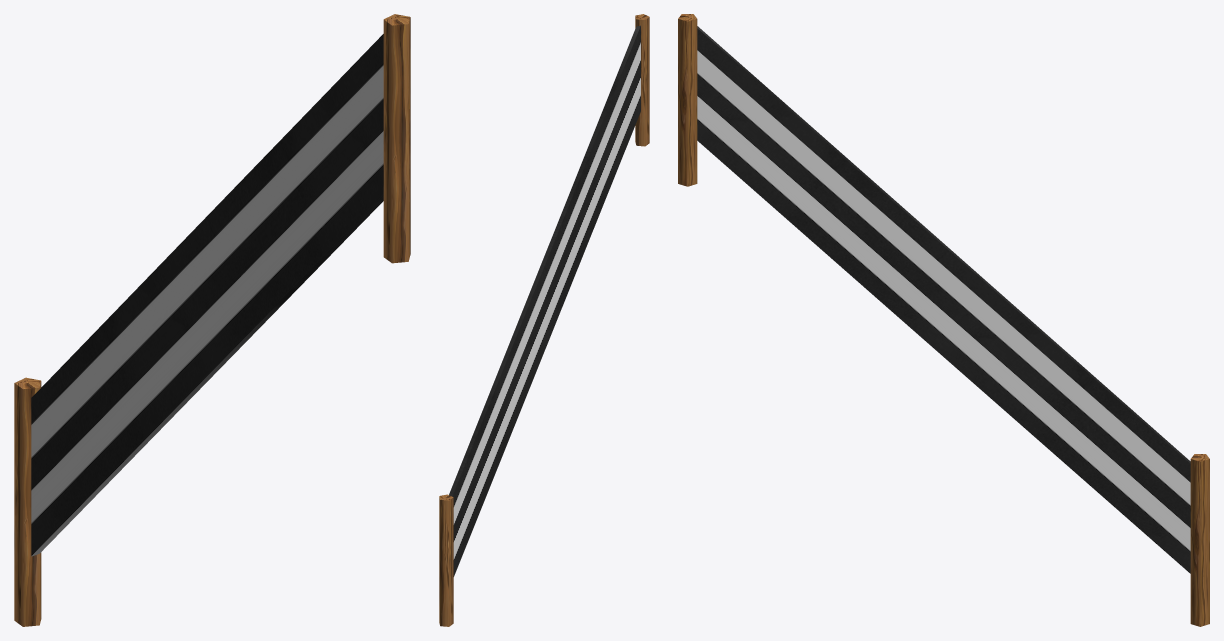
The model's file is handle_Bars.FBX.
3 views of the same model, side by side, from view 1: azimuth 30°, elevation 25°; view 2: azimuth 150°, elevation 25°; view 3: azimuth 270°, elevation 25° (orthographic). The views are drawn at different scales.
Parts seen in each view (by area): view 1: Plane002, Cylinder002, Cylinder003; view 2: Plane002, Cylinder003, Cylinder002; view 3: Plane002, Cylinder003, Cylinder002.
Part boxes in pixels (x1=…): Plane002: x1=31, y1=34, x2=383, y2=556; Cylinder002: x1=383, y1=14, x2=410, y2=263; Cylinder003: x1=14, y1=377, x2=41, y2=626; Plane002: x1=449, y1=25, x2=640, y2=576; Cylinder003: x1=439, y1=494, x2=453, y2=626; Cylinder002: x1=635, y1=14, x2=649, y2=146; Plane002: x1=697, y1=26, x2=1190, y2=573; Cylinder003: x1=1190, y1=454, x2=1209, y2=626; Cylinder002: x1=678, y1=14, x2=697, y2=186.
Bounding box in the file's own units: 0.2493 × 7.28 × 9.14.
2 materials, 2 textured.
